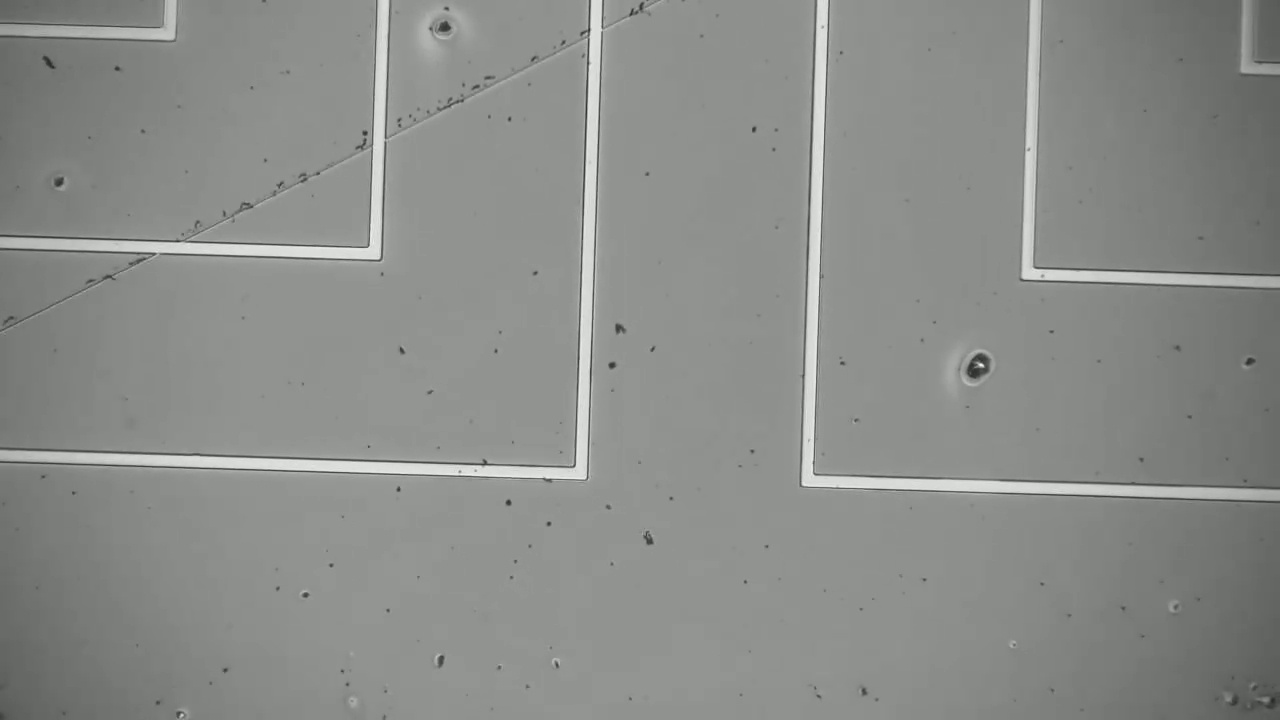scratch: (3, 9, 656, 329)
